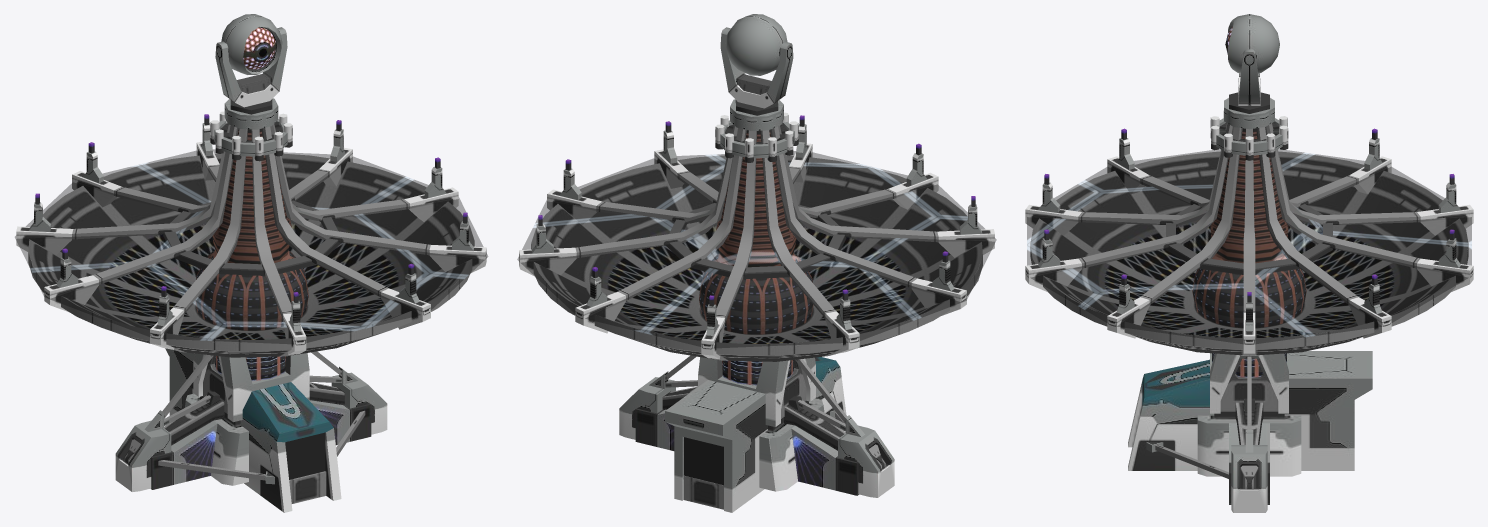
The picture shows the model from 3 angles, left to right: view 1: azimuth 30°, elevation 25°; view 2: azimuth 150°, elevation 25°; view 3: azimuth 270°, elevation 25°; orthographic projection. The views are drawn at different scales.
Visible parts, largest first — view 1: ray-receiver; view 2: ray-receiver; view 3: ray-receiver.
Boxes of the visible parts, x1=… form: ray-receiver: x1=15, y1=14, x2=487, y2=512; ray-receiver: x1=517, y1=14, x2=996, y2=512; ray-receiver: x1=1025, y1=14, x2=1473, y2=512.
Bounding box in the file's own units: 10.13 × 10.38 × 9.58.
3 materials, 2 textured.
